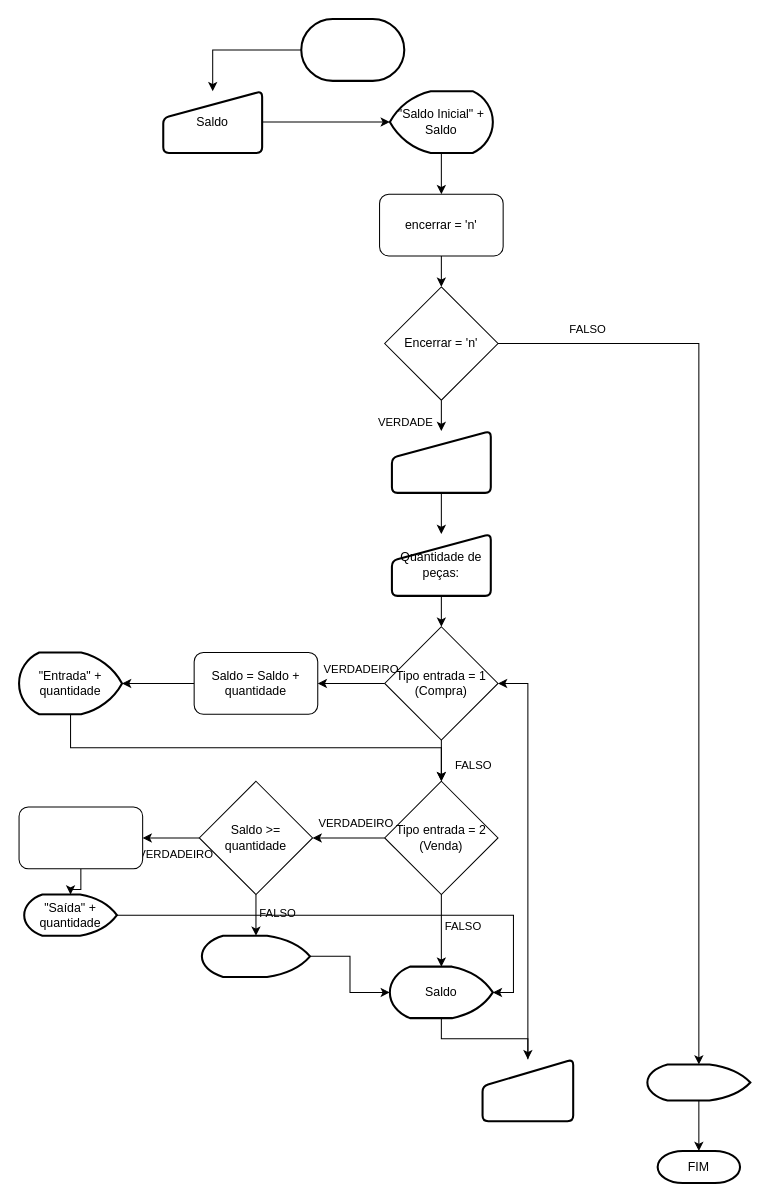
Some shapes in this 768 by 1201 pixel diagram are drawn without their labels. The shapes that lost their labels are listed below. From the top down, each one's centre as x and y in pixels, then its label:
the point at 352,49: Início do Algoritmo
the point at 440,461: Tipo de entrada:
the point at 80,837: Saldo = Saldo - quantidade
the point at 255,955: "Saldo insuficiente"
the point at 527,1090: Encerrar? [S/N]
the point at 698,1082: "Sistema encerrado"
